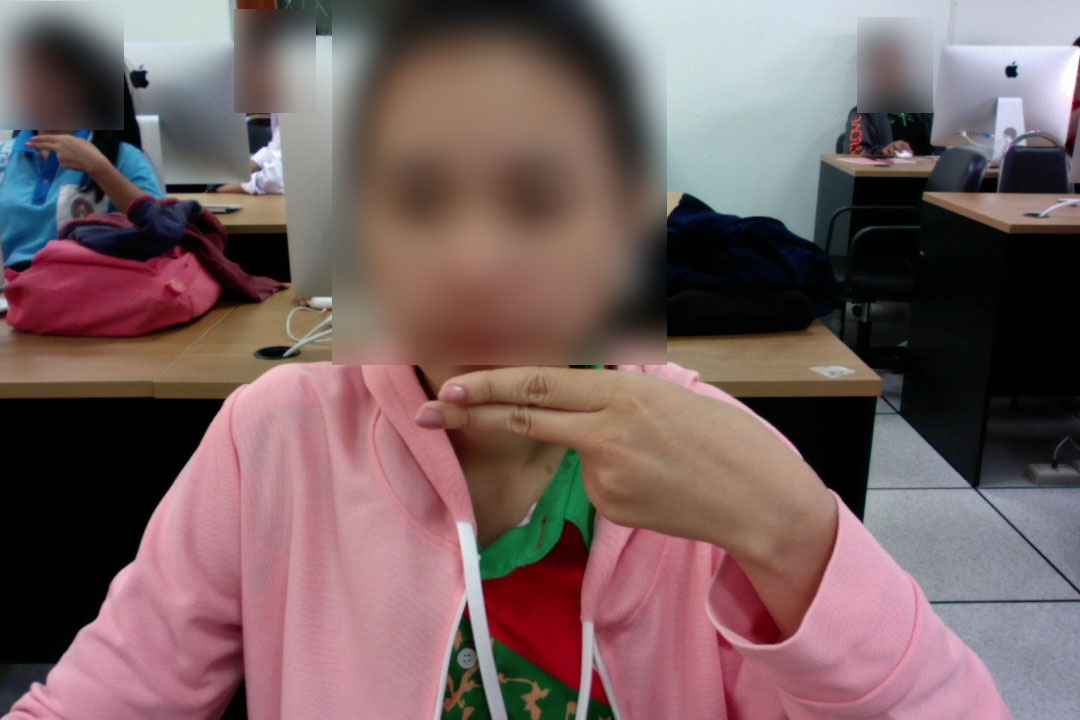hor: (403, 362, 818, 555)
